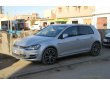License Plates: (13, 48, 24, 55)
